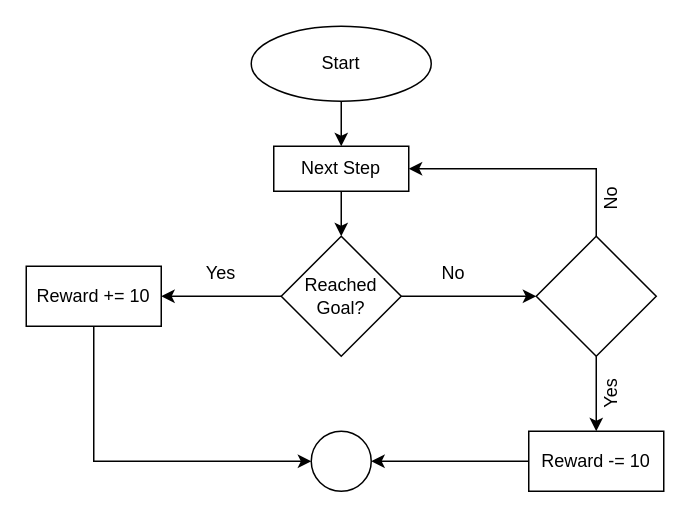
The diagram is 690 pixels wide and 518 high, and some of its shapes have lost their labels. Each missing label, with the box of its shape:
End: (310, 430, 371, 491)
Got Defended?: (535, 235, 656, 356)
